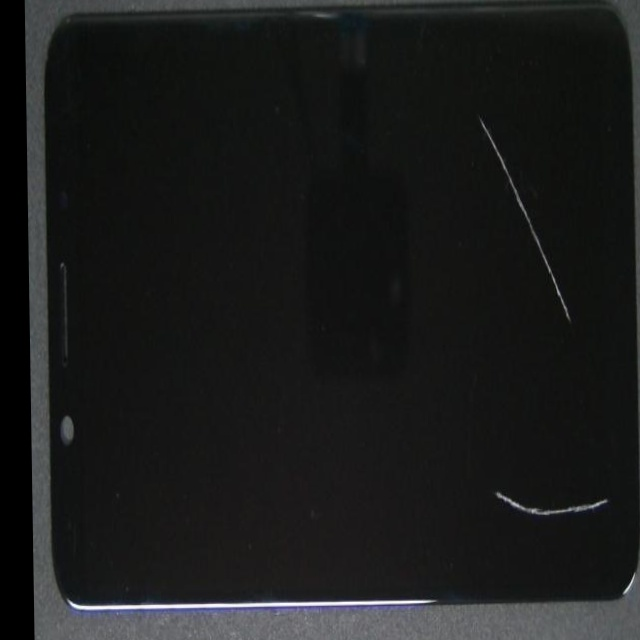scratch: (383, 210, 640, 640), (363, 246, 640, 421)
